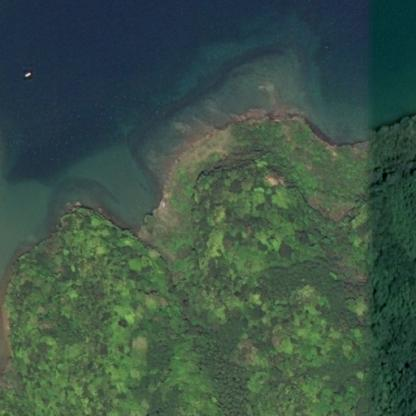ship: (18, 64, 36, 83)
